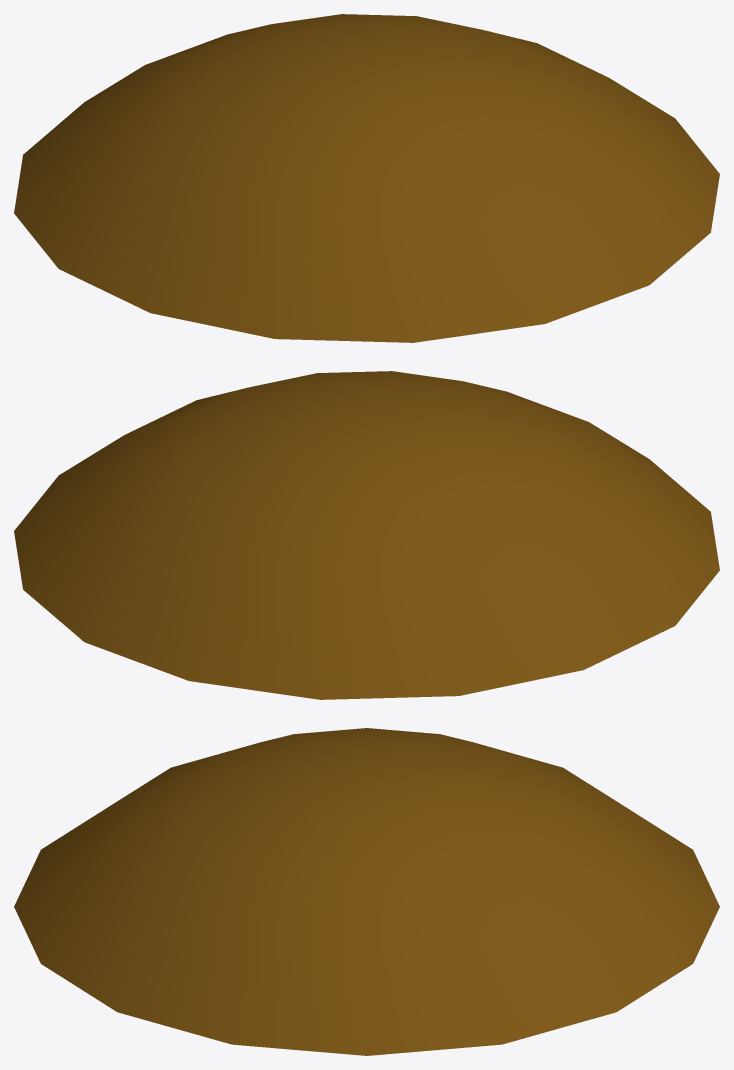
The model's file is Cannibis sprout LOD.fbx.
3 renders of one model, top to bottom at view 1: azimuth 30°, elevation 25°; view 2: azimuth 150°, elevation 25°; view 3: azimuth 270°, elevation 25°, orthographic.
Visible parts, largest first — view 1: Soil_LOD0; view 2: Soil_LOD0; view 3: Soil_LOD0.
Part boxes in pixels (x1,y1,x2,y2): Soil_LOD0: (14,14,719,342); Soil_LOD0: (14,371,719,699); Soil_LOD0: (14,728,719,1055).
Size of what is drawn, in the model's own units: 141 by 29.29 by 141.
